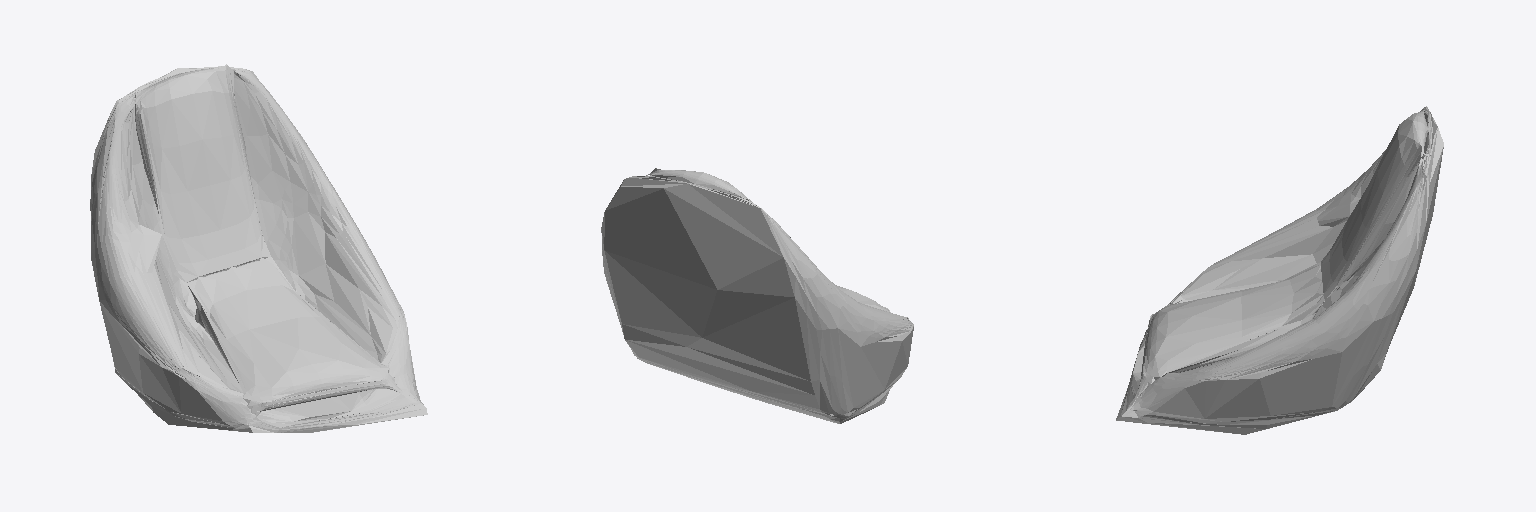
The model's file is chair10.obj.
The picture shows the model from 3 angles: view 1: azimuth 30°, elevation 25°; view 2: azimuth 150°, elevation 25°; view 3: azimuth 270°, elevation 25°; orthographic projection.
Parts seen in each view (by area): view 1: Armchair10:Mesh; view 2: Armchair10:Mesh; view 3: Armchair10:Mesh.
Part boxes in pixels (x1,y1,x2,y2): Armchair10:Mesh: (90,64,427,432); Armchair10:Mesh: (601,168,913,423); Armchair10:Mesh: (1116,106,1443,434).
Size of the model in its own units: 0.4646 by 0.4683 by 0.5237.